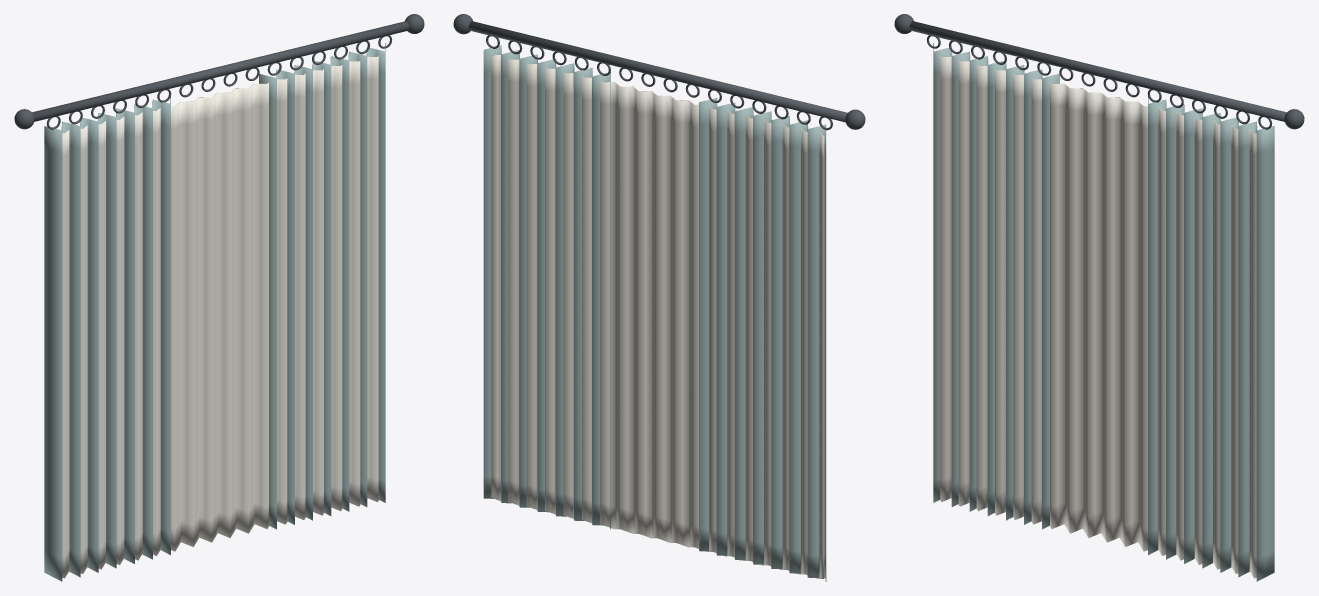
File: atelier-sheer-curtains.glb
The picture shows the model from 3 angles, left to right: view 1: azimuth 30°, elevation 25°; view 2: azimuth 150°, elevation 25°; view 3: azimuth 330°, elevation 25°; orthographic projection.
Visible parts, largest first — view 1: ceramic.017, fabric.047, metal.047; view 2: ceramic.017, fabric.047, metal.047; view 3: ceramic.017, fabric.047, metal.047.
Boxes of the visible parts, box(x1,y1,x2,y2) form: ceramic.017: box(62, 56, 378, 578); fabric.047: box(44, 43, 385, 581); metal.047: box(14, 14, 424, 129); ceramic.017: box(491, 55, 824, 578); fabric.047: box(483, 45, 826, 581); metal.047: box(453, 14, 865, 130); ceramic.017: box(940, 56, 1256, 578); fabric.047: box(933, 43, 1274, 581); metal.047: box(894, 14, 1304, 129).
Size of the model in its own units: 2.09 by 2.34 by 0.0899.
